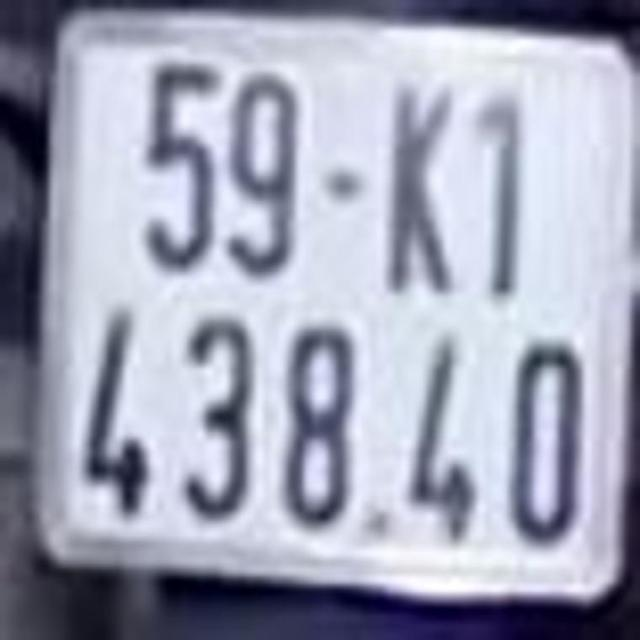0: (506, 332, 586, 545)
1: (472, 80, 532, 298)
3: (181, 312, 252, 520)
4: (407, 330, 481, 544), (80, 305, 153, 520)
5: (142, 56, 219, 272)
8: (284, 322, 352, 527)
9: (227, 68, 298, 277)
K: (388, 73, 458, 298)
